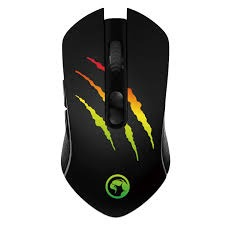keyboard: (54, 5, 182, 219)
